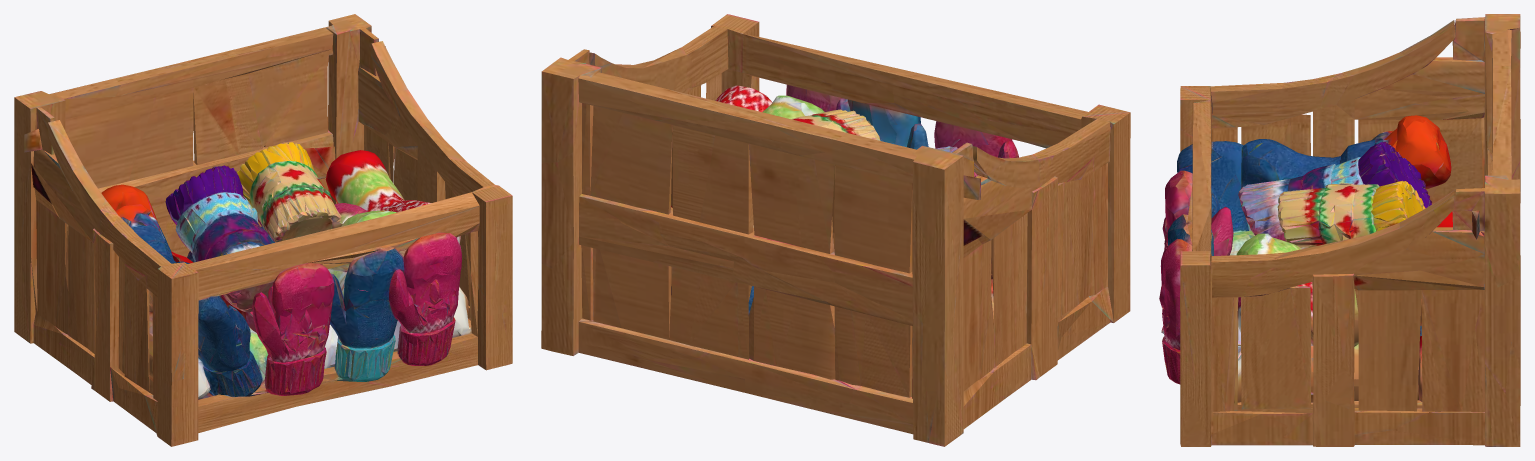
Rendered from glove_bin.glb.
3 renders of one model, left to right at view 1: azimuth 30°, elevation 25°; view 2: azimuth 150°, elevation 25°; view 3: azimuth 270°, elevation 25°, orthographic. The views are drawn at different scales.
Size of the model in its own units: 1.9 by 1.18 by 1.52.
Materials: 1 (1 with a texture image).
